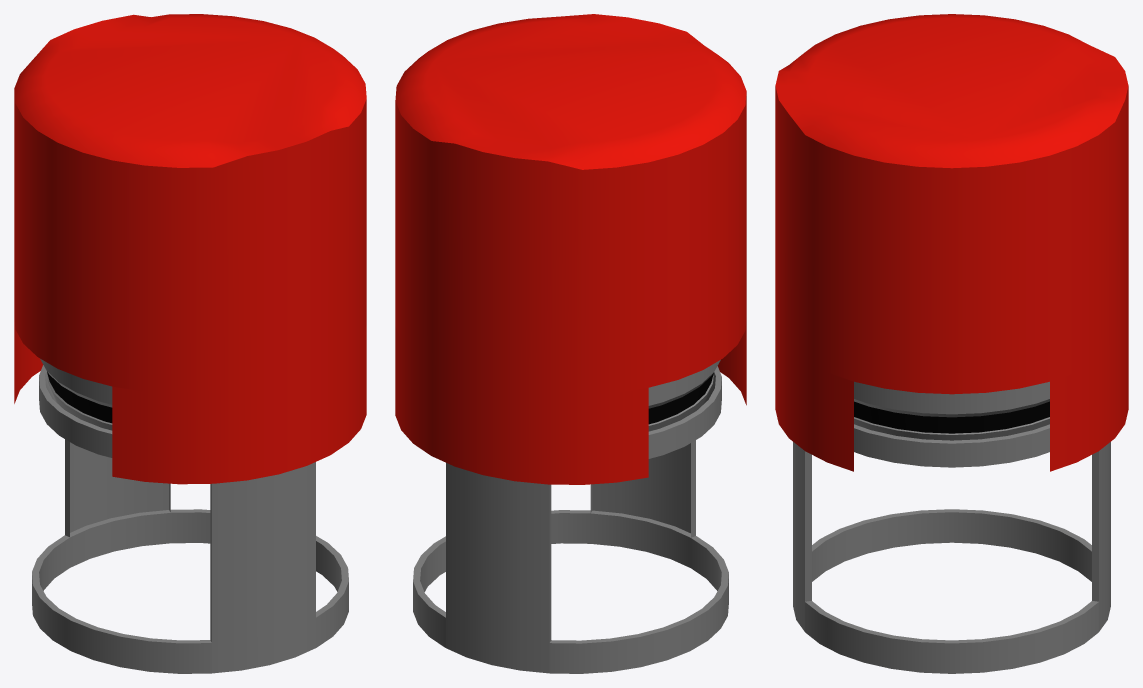
Rendered from damga7.fbx.
3 renders of one model, left to right at view 1: azimuth 30°, elevation 25°; view 2: azimuth 150°, elevation 25°; view 3: azimuth 270°, elevation 25°, orthographic.
Visible parts, largest first — view 1: damga7; view 2: damga7; view 3: damga7.
Part boxes in pixels (box(x1,y1,x2,y2)): damga7: box(14, 14, 366, 673); damga7: box(395, 14, 746, 673); damga7: box(775, 14, 1128, 673).
Size of the model in its own units: 124 by 124 by 205.
